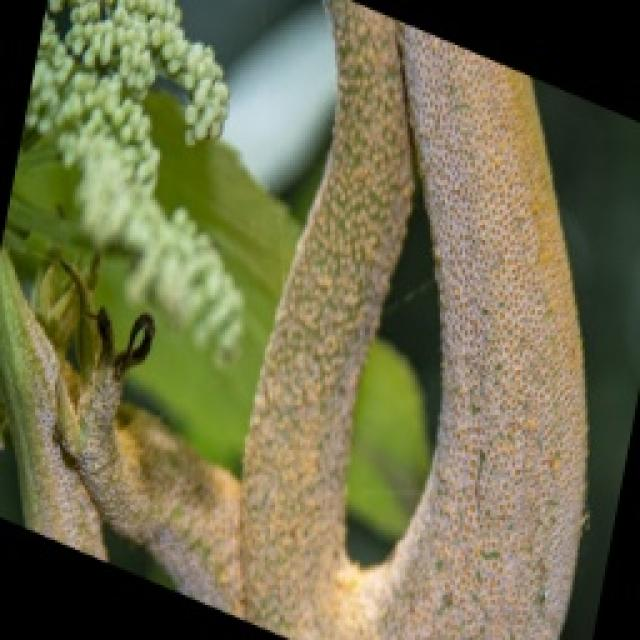Elderberry_rust: (76, 9, 610, 640)
